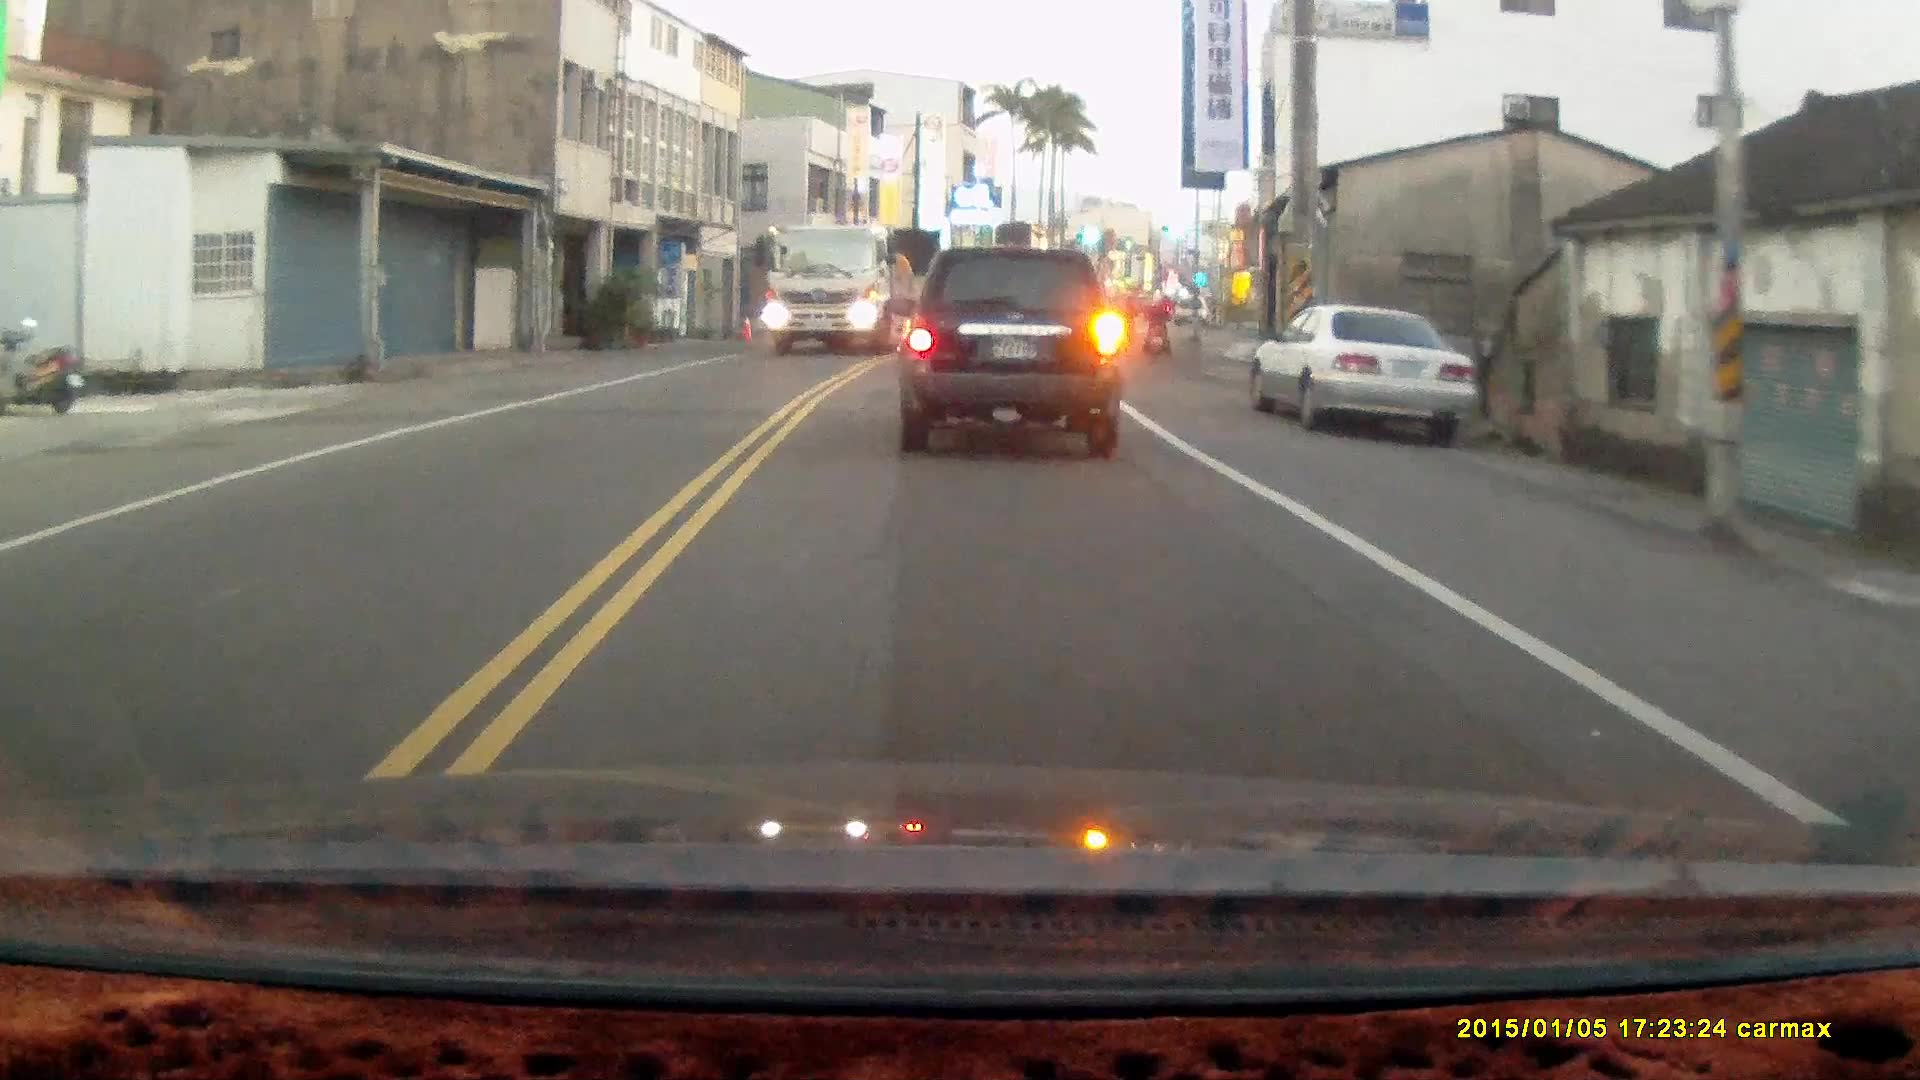rider: (1141, 290, 1172, 362), (1109, 292, 1136, 355)
vehicle: (891, 250, 1131, 460), (1254, 304, 1484, 442), (763, 226, 925, 358)
